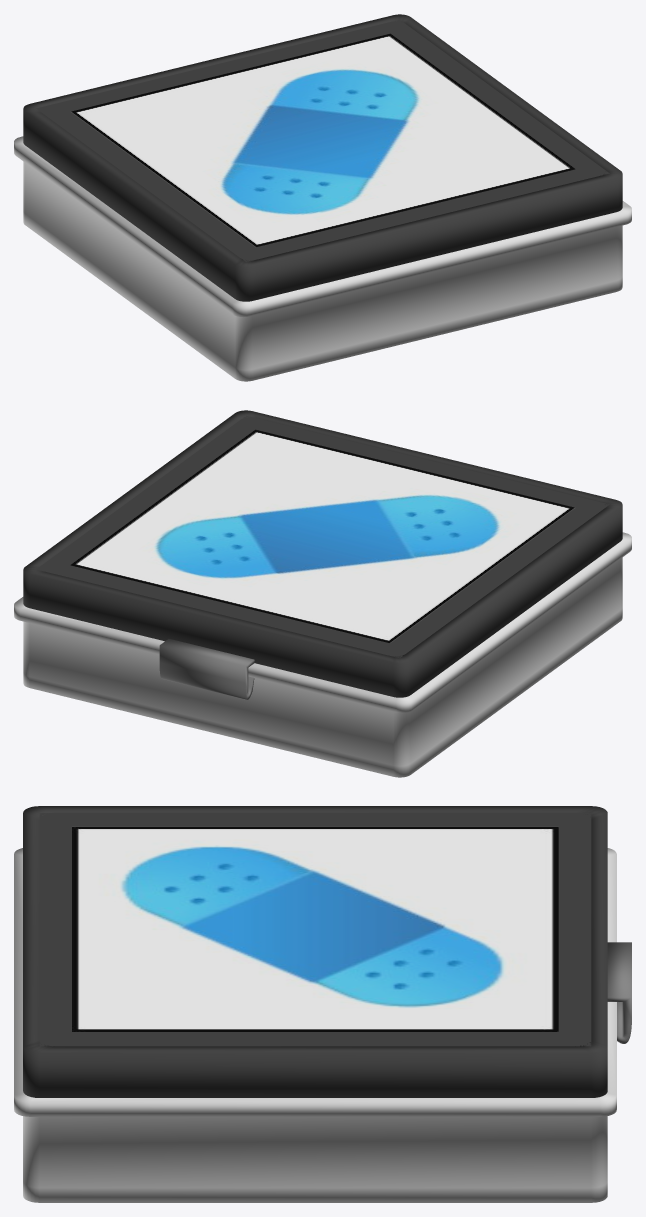
The model's file is bandage_container.glb.
3 views of the same model, one above another, from view 1: azimuth 30°, elevation 25°; view 2: azimuth 150°, elevation 25°; view 3: azimuth 270°, elevation 25° (orthographic). The views are drawn at different scales.
Visible parts, largest first — view 1: bandage - 1, Part 3, Part, Surface-Plane1 - Part; view 2: bandage - 1, Part 3, Part, Surface-Plane1 - Part, Part 2; view 3: bandage - 1, Part 3, Part, Surface-Plane1 - Part, Part 2.
Part boxes in pixels (x1,y1,x2,y2): bandage - 1: (70,33,575,247); Part 3: (14,136,631,381); Part: (23,14,622,301); Surface-Plane1 - Part: (36,19,609,261); bandage - 1: (70,429,575,643); Part 3: (14,532,631,777); Part: (23,410,622,697); Surface-Plane1 - Part: (36,415,609,657); Part 2: (159,639,254,699); bandage - 1: (72,826,558,1031); Part 3: (14,848,616,1202); Part: (23,806,607,1097); Surface-Plane1 - Part: (39,813,591,1046); Part 2: (607,942,631,1043).
Size of the model in its own units: 0.0927 by 0.0255 by 0.095.
5 materials, 1 textured.
